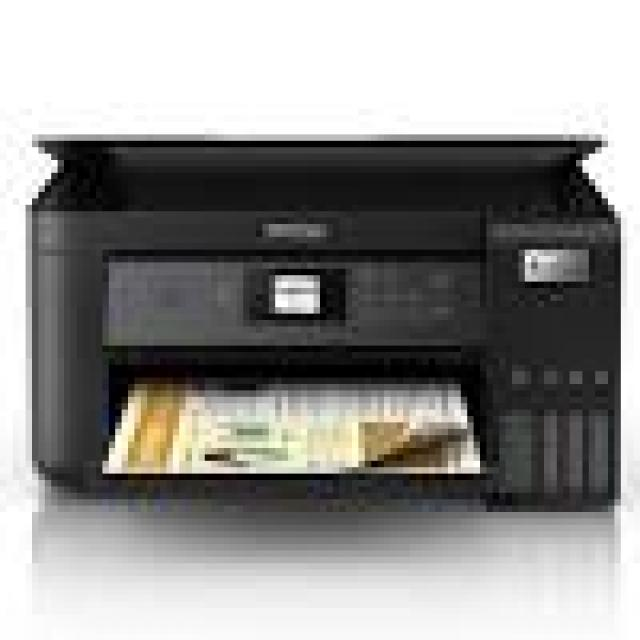printer: (21, 133, 628, 514)
